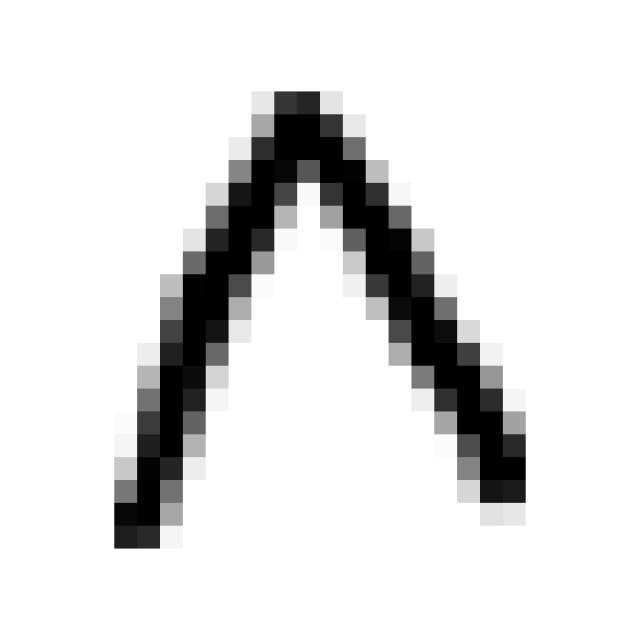8 -eight-: (92, 62, 546, 562)
